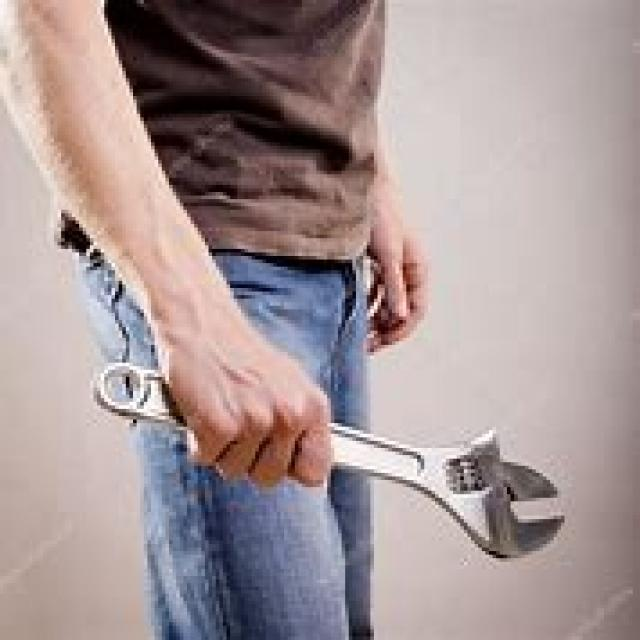wrench: (89, 358, 571, 564)
